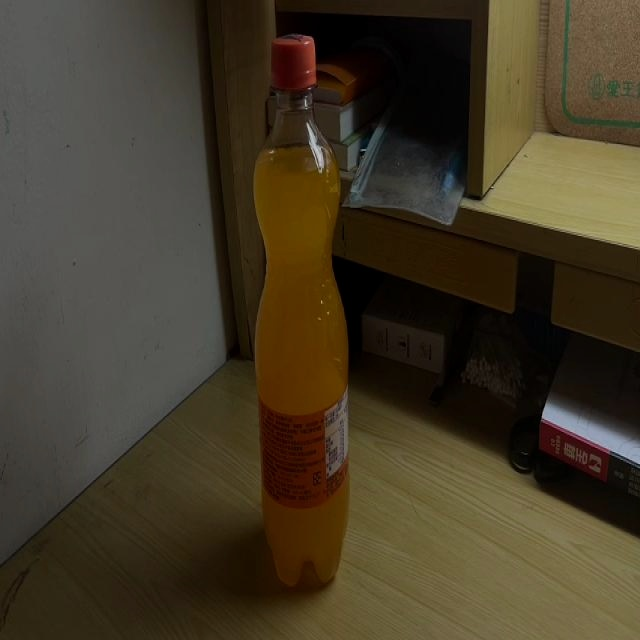Fanta: (252, 34, 350, 589)
